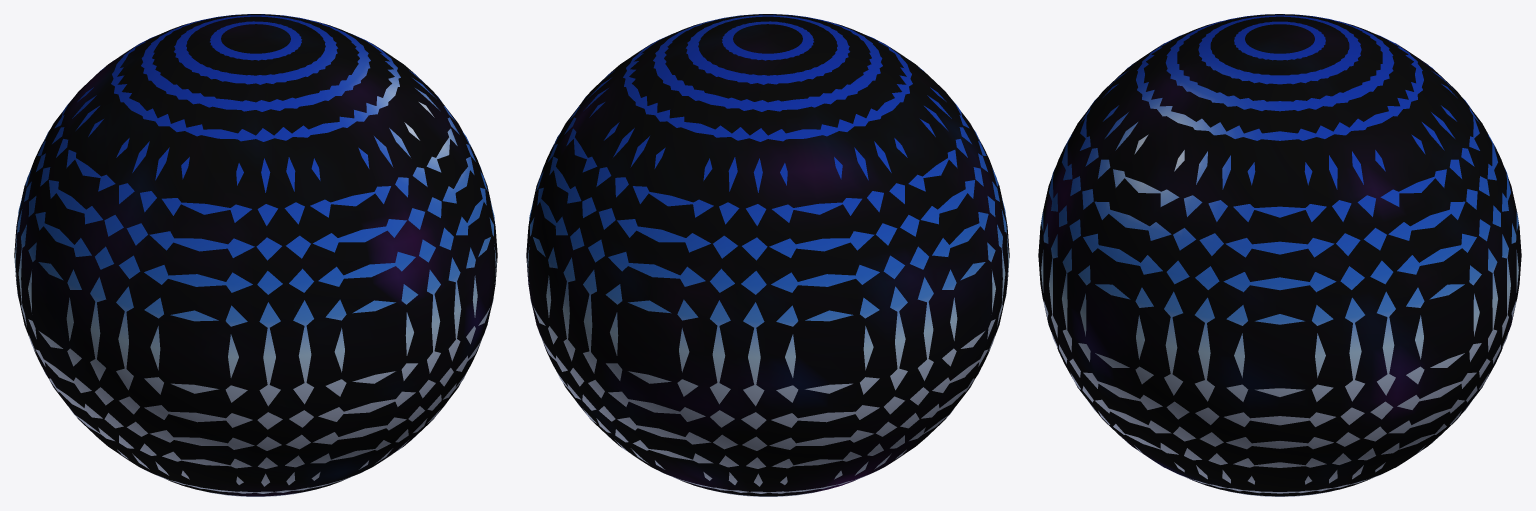
The model's file is Arena.fbx.
3 renders of one model, left to right at view 1: azimuth 30°, elevation 25°; view 2: azimuth 150°, elevation 25°; view 3: azimuth 270°, elevation 25°, orthographic.
Visible parts, largest first — view 1: Stars_Sky, Mountain_Sky; view 2: Stars_Sky, Mountain_Sky; view 3: Stars_Sky, Mountain_Sky.
Boxes of the visible parts, <box> form: Stars_Sky: <box>14,14,497,496</box>; Mountain_Sky: <box>14,14,496,496</box>; Stars_Sky: <box>526,14,1009,496</box>; Mountain_Sky: <box>527,14,1009,496</box>; Stars_Sky: <box>1038,14,1521,496</box>; Mountain_Sky: <box>1041,14,1518,496</box>.
Bounding box in the file's own units: 760 × 760 × 760.
